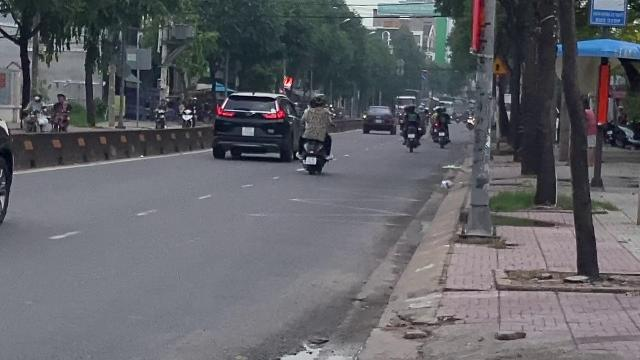motorcyclist: (1, 70, 16, 232)
